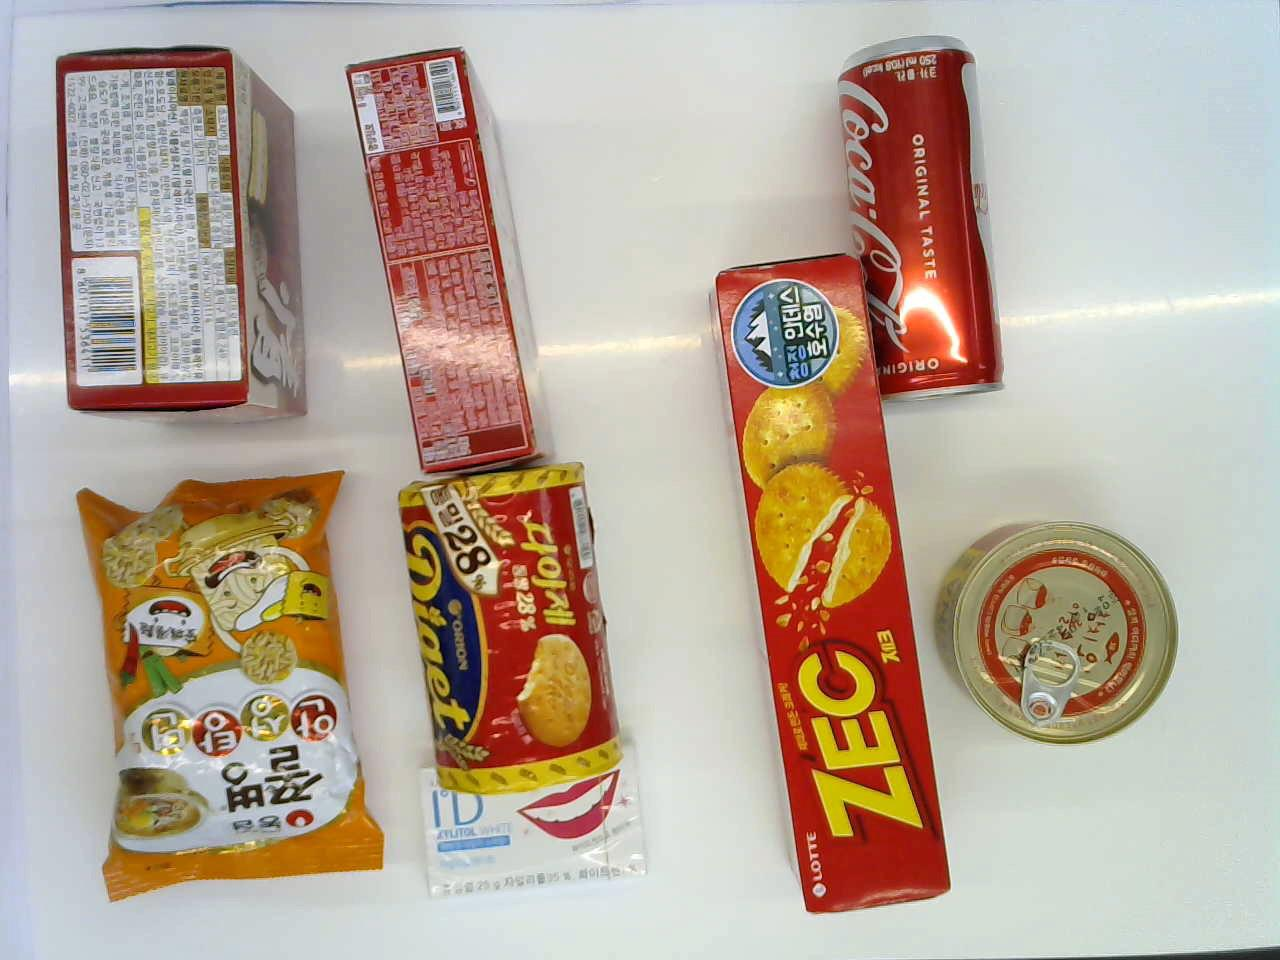ID_gum: (413, 764, 653, 897)
chocopie: (42, 39, 306, 432)
coke: (828, 37, 1006, 417)
couque_white: (338, 38, 547, 466)
diget_ori: (400, 460, 624, 792)
jjolbyung_noodle: (65, 473, 377, 890)
tuna: (936, 516, 1175, 753)
zec: (714, 248, 947, 924)
